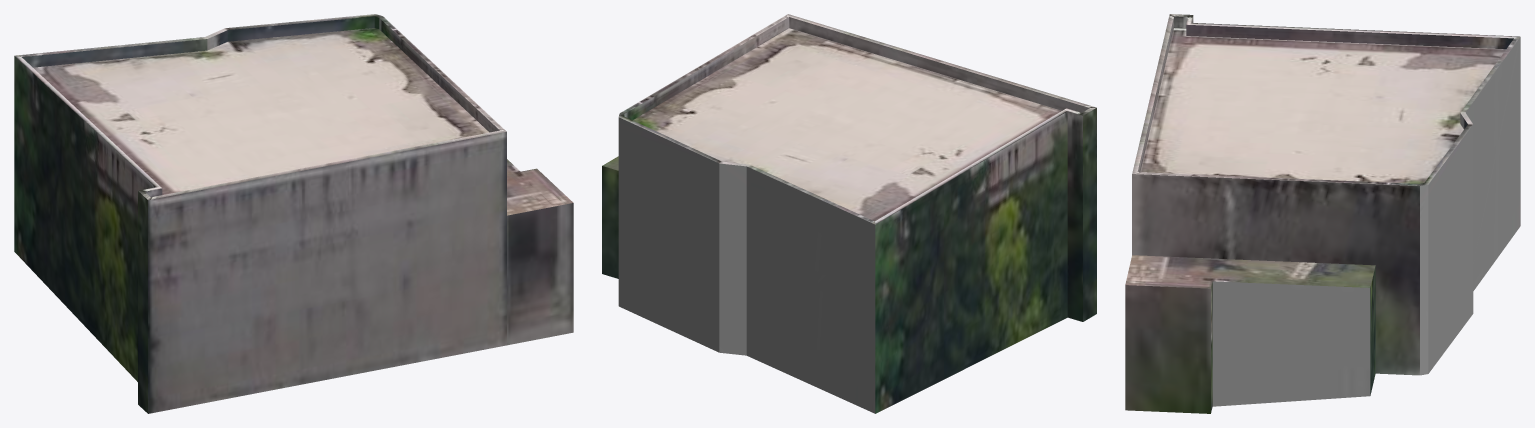
3 views of the same model, side by side, from view 1: azimuth 30°, elevation 25°; view 2: azimuth 150°, elevation 25°; view 3: azimuth 270°, elevation 25° (orthographic). The views are drawn at different scales.
Visible parts, largest first — view 1: B286814037601062A0; view 2: B286814037601062A0; view 3: B286814037601062A0.
Part boxes in pixels (bbox=[...]): B286814037601062A0: bbox=[14, 14, 573, 413]; B286814037601062A0: bbox=[602, 14, 1096, 413]; B286814037601062A0: bbox=[1125, 14, 1520, 413].
Bounding box in the file's own units: 11.67 × 5.81 × 10.08.
Materials: 1 (1 with a texture image).
